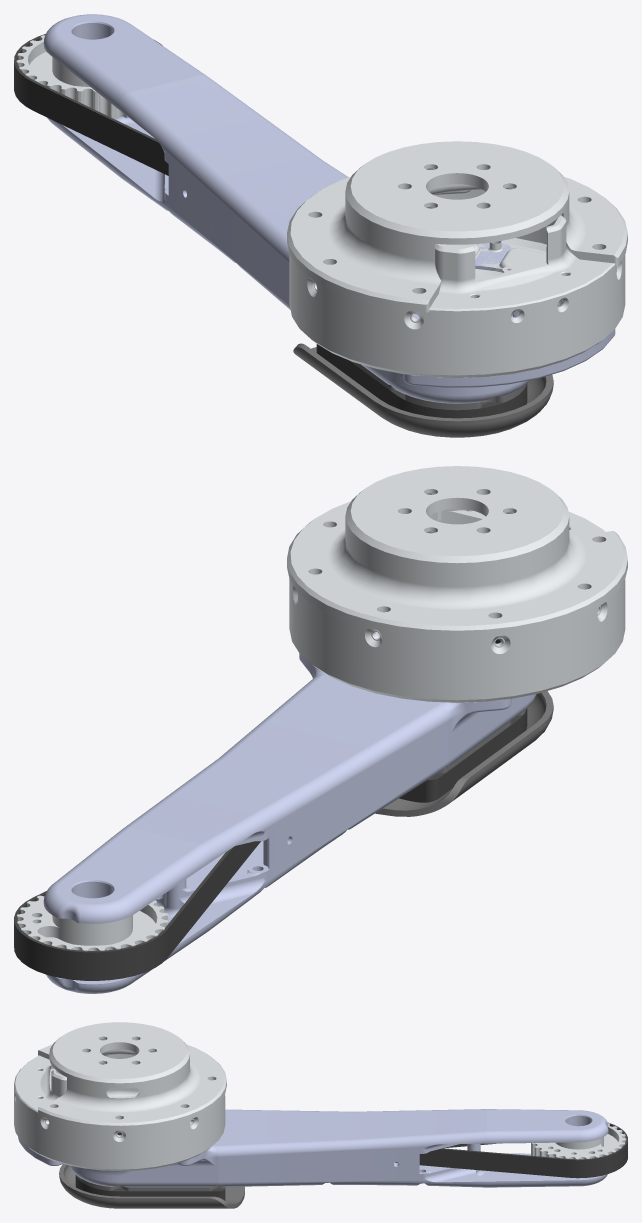
Rendered from mini_vision_upper_leg.dae.
3 views of the same model, one above another, from view 1: azimuth 30°, elevation 25°; view 2: azimuth 150°, elevation 25°; view 3: azimuth 270°, elevation 25° (orthographic). The views are drawn at different scales.
Parts seen in each view (by area): view 1: motor_coupling, _ncl1_4, IntegratedFBXASC032MGB, _ncl1_8, shoulder_protector, belt, FBXASC0508t_gt, hip_protector_foam, hip_protector_base; view 2: motor_coupling, _ncl1_4, IntegratedFBXASC032MGB, _ncl1_8, belt, FBXASC0508t_gt, shoulder_protector, hip_protector_foam; view 3: _ncl1_4, motor_coupling, IntegratedFBXASC032MGB, _ncl1_8, belt, shoulder_protector, FBXASC0508t_gt, hip_protector_foam, hip_protector_base.
Part boxes in pixels (x1=…): motor_coupling: x1=287, y1=141, x2=627, y2=312; _ncl1_4: x1=43, y1=14, x2=615, y2=388; IntegratedFBXASC032MGB: x1=289, y1=184, x2=625, y2=377; _ncl1_8: x1=47, y1=116, x2=529, y2=403; shoulder_protector: x1=293, y1=343, x2=553, y2=437; belt: x1=14, y1=34, x2=168, y2=175; FBXASC0508t_gt: x1=16, y1=35, x2=128, y2=119; hip_protector_foam: x1=316, y1=344, x2=527, y2=418; hip_protector_base: x1=349, y1=360, x2=526, y2=410; motor_coupling: x1=287, y1=466, x2=627, y2=638; _ncl1_4: x1=43, y1=632, x2=526, y2=923; IntegratedFBXASC032MGB: x1=289, y1=509, x2=625, y2=702; _ncl1_8: x1=46, y1=694, x2=536, y2=993; belt: x1=14, y1=638, x2=501, y2=980; FBXASC0508t_gt: x1=17, y1=895, x2=168, y2=951; shoulder_protector: x1=375, y1=691, x2=553, y2=816; hip_protector_foam: x1=399, y1=708, x2=527, y2=802; _ncl1_4: x1=18, y1=1109, x2=608, y2=1177; motor_coupling: x1=38, y1=1022, x2=226, y2=1130; IntegratedFBXASC032MGB: x1=14, y1=1049, x2=225, y2=1170; _ncl1_8: x1=70, y1=1153, x2=607, y2=1187; belt: x1=117, y1=1122, x2=627, y2=1178; shoulder_protector: x1=59, y1=1164, x2=244, y2=1208; FBXASC0508t_gt: x1=531, y1=1123, x2=626, y2=1159; hip_protector_foam: x1=75, y1=1175, x2=225, y2=1200; hip_protector_base: x1=76, y1=1175, x2=224, y2=1191.
Bounding box in the file's own units: 0.0975 × 0.0712 × 0.2789.
